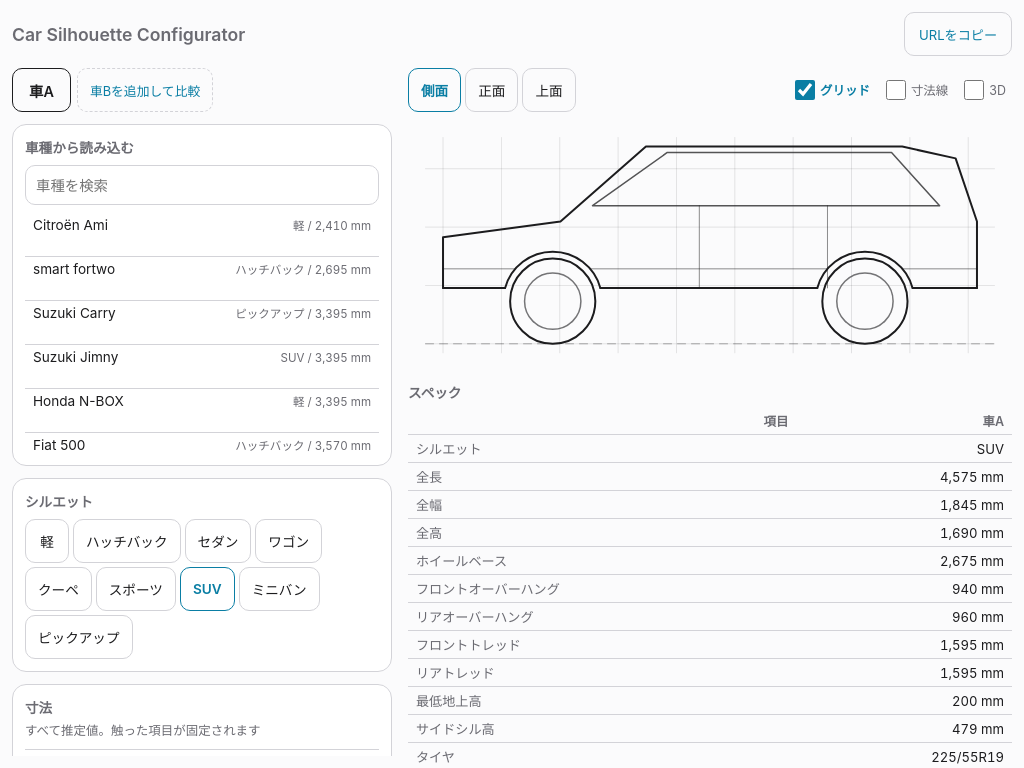
it: App ビュー切替 › タブを押すと正面図・上面図に切り替わる
Click the button "正面": click(492, 90) [465,68,518,112]
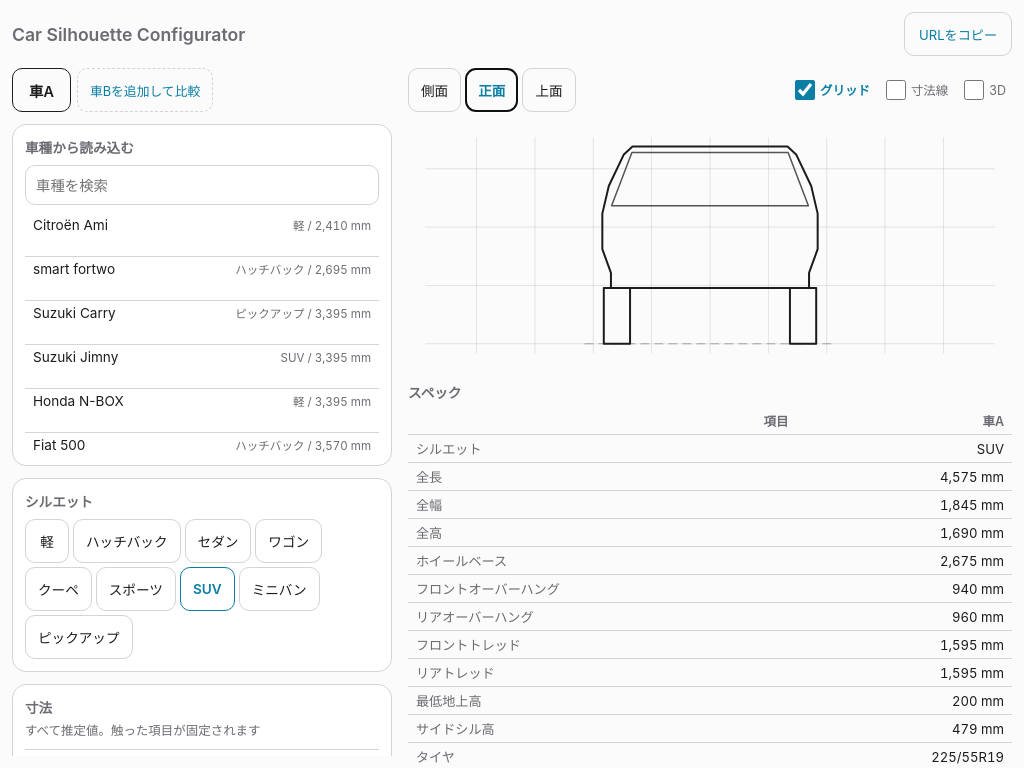
Now the picture named "SUVの正面図" is shown, box [408,120,1012,370]
Click the button "上面": click(549, 90) [522,68,576,112]
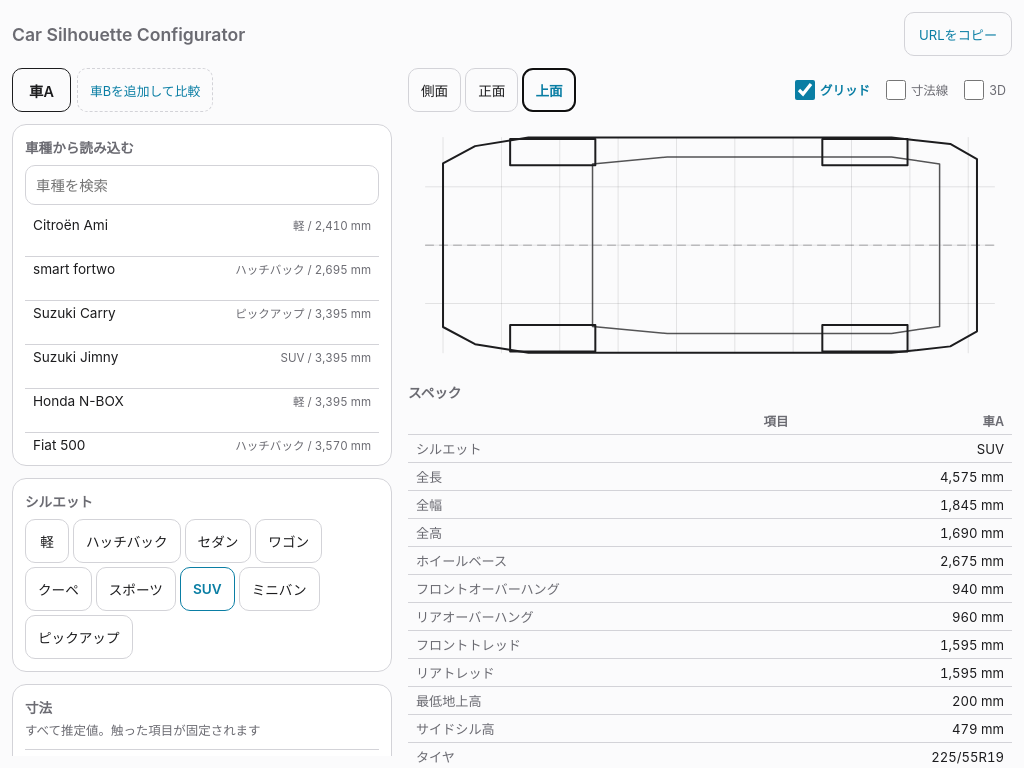
Now the picture named "SUVの上面図" is shown, box [408,120,1012,370]
